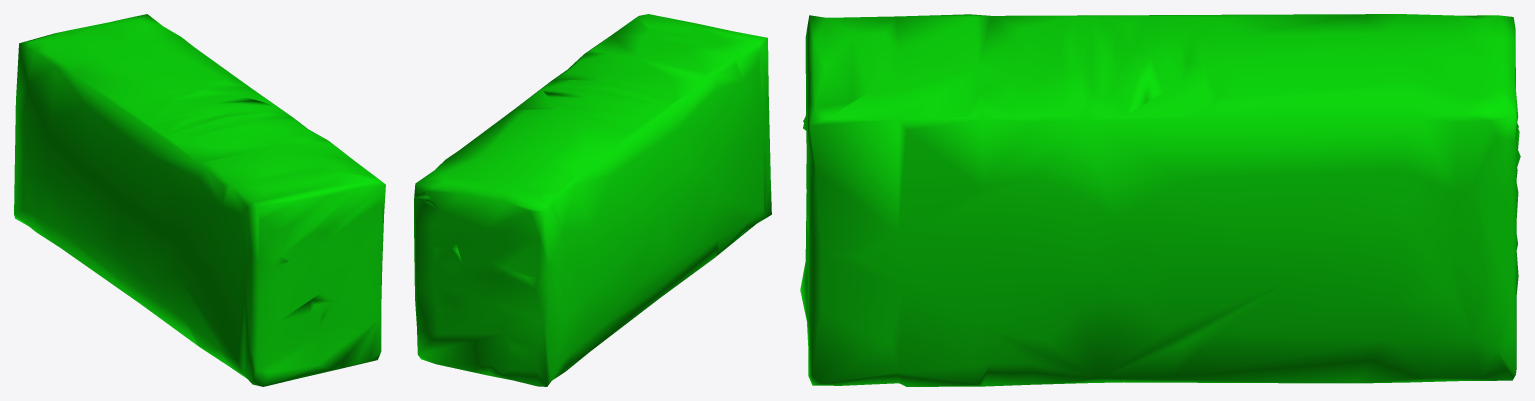
The model's file is rectangularCube1_4.dae.
3 renders of one model, left to right at view 1: azimuth 30°, elevation 25°; view 2: azimuth 150°, elevation 25°; view 3: azimuth 270°, elevation 25°, orthographic. The views are drawn at different scales.
Visible parts, largest first — view 1: BlueSaltCube_800_tex; view 2: BlueSaltCube_800_tex; view 3: BlueSaltCube_800_tex.
Boxes of the visible parts, <box> form: BlueSaltCube_800_tex: <box>14,14,385,386</box>; BlueSaltCube_800_tex: <box>414,14,771,386</box>; BlueSaltCube_800_tex: <box>800,14,1520,386</box>.
Bounding box in the file's own units: 0.0366 × 0.0986 × 0.045.
